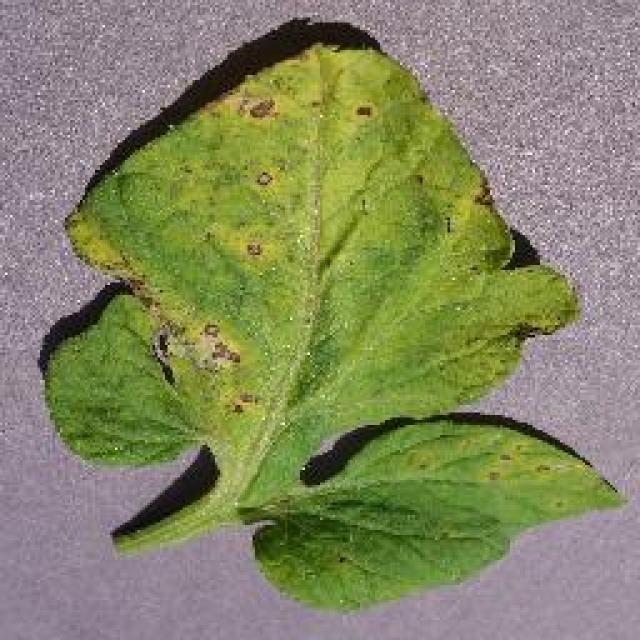Tomato Septoria spot leaf: (40, 41, 626, 614)
